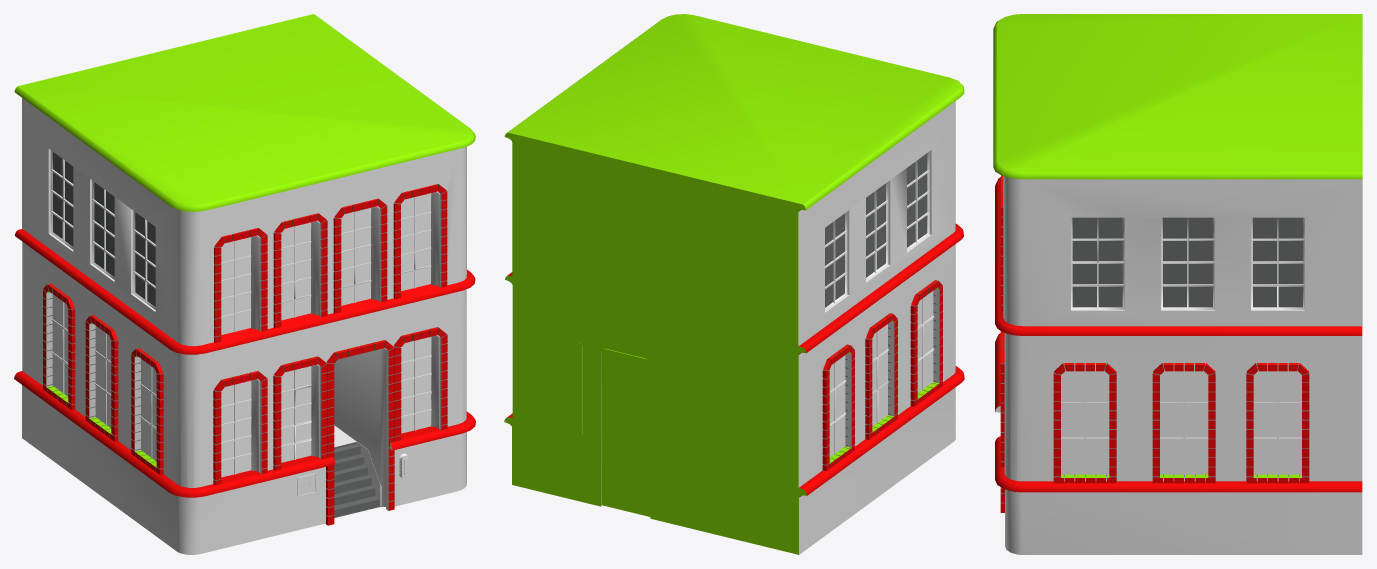
The model's file is dom2_2.fbx.
The picture shows the model from 3 angles, left to right: view 1: azimuth 30°, elevation 25°; view 2: azimuth 150°, elevation 25°; view 3: azimuth 270°, elevation 25°; orthographic projection. The views are drawn at different scales.
Visible parts, largest first — view 1: Cube_5901, Cube_5879, Cube_5898, Cube_59011, Cube_59017, Cube_59015, Cube_59016, Cube_5896, Cube_58861, Cube_5886, Cube_58813, Cube_58815 (+1 smaller); view 2: Cube_5901, Cube_5879, Cube, Cube_59017, Cube_59016, Cube_59015, Cube_58814, Cube_58813, Cube_58815; view 3: Cube_5901, Cube_5879, Cube_5881, Cube_58811, Cube_58812, Cube_59012, Cube_59014, Cube_59013, Cube_5886.
Boxes of the visible parts, bbox=[...] form: Cube_5901: bbox=[14, 14, 475, 346]; Cube_5879: bbox=[14, 229, 475, 554]; Cube_5898: bbox=[325, 340, 394, 525]; Cube_59011: bbox=[333, 425, 382, 518]; Cube_59017: bbox=[85, 314, 118, 441]; Cube_59015: bbox=[43, 283, 75, 410]; Cube_59016: bbox=[131, 348, 163, 474]; Cube_5896: bbox=[213, 371, 267, 485]; Cube_58861: bbox=[273, 356, 327, 470]; Cube_5886: bbox=[394, 327, 447, 441]; Cube_58813: bbox=[52, 294, 69, 396]; Cube_58815: bbox=[95, 326, 112, 427]; Cube_5901: bbox=[504, 14, 964, 346]; Cube_5879: bbox=[504, 223, 964, 554]; Cube: bbox=[601, 348, 650, 516]; Cube_59017: bbox=[865, 313, 897, 439]; Cube_59016: bbox=[910, 280, 942, 406]; Cube_59015: bbox=[822, 344, 854, 470]; Cube_58814: bbox=[917, 291, 933, 392]; Cube_58813: bbox=[829, 355, 845, 457]; Cube_58815: bbox=[871, 324, 888, 426]; Cube_5901: bbox=[993, 14, 1362, 326]; Cube_5879: bbox=[995, 177, 1362, 554]; Cube_5881: bbox=[1253, 369, 1301, 474]; Cube_58811: bbox=[1061, 369, 1109, 474]; Cube_58812: bbox=[1160, 369, 1208, 474]; Cube_59012: bbox=[1246, 363, 1309, 483]; Cube_59014: bbox=[1152, 363, 1215, 483]; Cube_59013: bbox=[1053, 363, 1116, 483]; Cube_5886: bbox=[1000, 331, 1004, 466].
Size of the model in its own units: 3.24 by 3.6 by 3.13.
